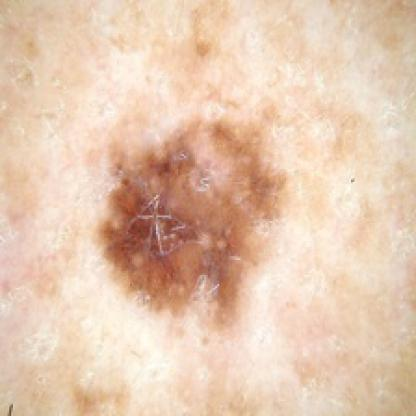malignant: (106, 69, 314, 321)
